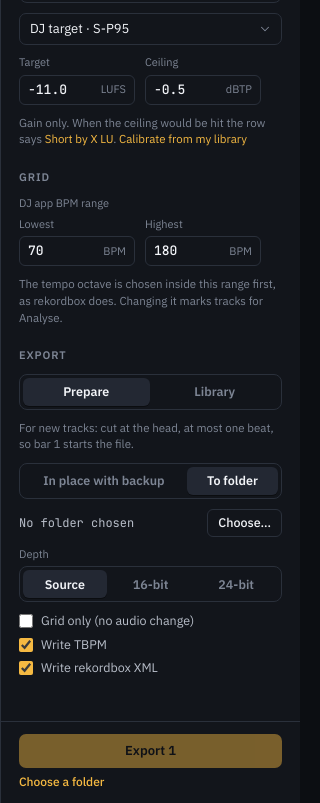
Rail › the Export button › the hint opens the folder picker, and Export is ready after it
This screenshot has width=320, height=803.
(page scrolled)
Click the button "Choose a folder" at point(62, 782), box [19,774,104,791]
(page scrolled)
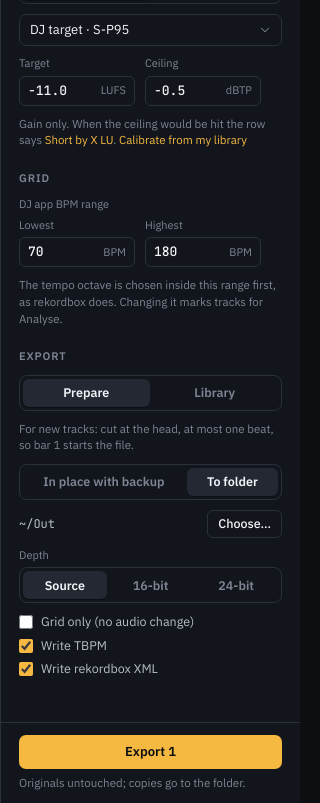
Check: the button "Export 1" is enabled, box [19,735,282,769]
Check: the button "Choose a folder" is gone
